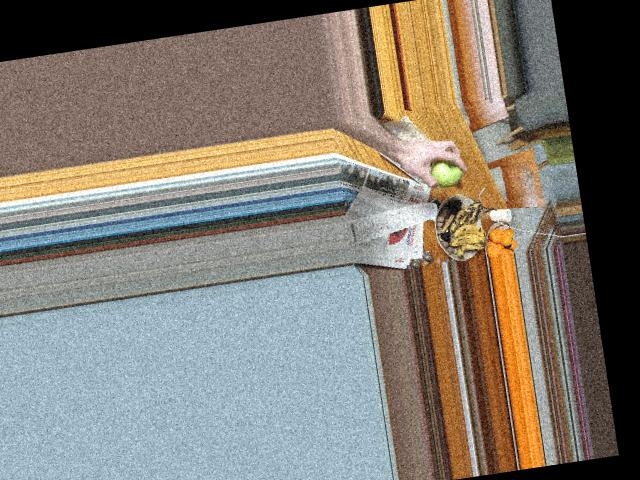apple: (428, 154, 467, 191)
